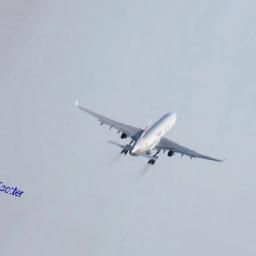Airplane: (73, 99, 227, 168)
